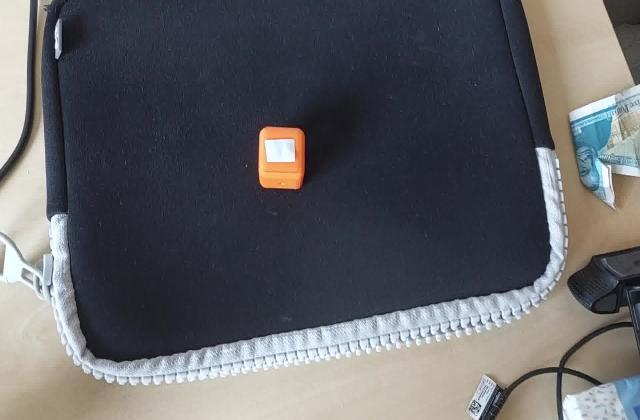sticker: (256, 127, 308, 193)
white: (262, 135, 300, 165)
